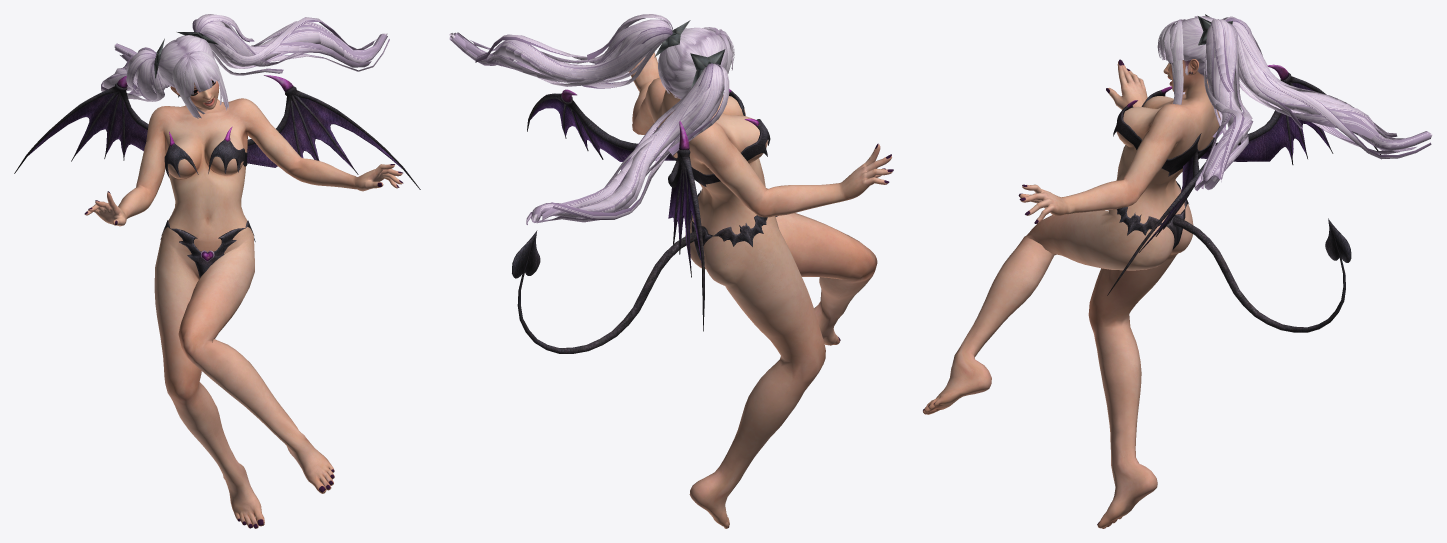
The model's file is amelia.fbx.
3 renders of one model, left to right at view 1: azimuth 30°, elevation 25°; view 2: azimuth 150°, elevation 25°; view 3: azimuth 270°, elevation 25°, orthographic. The views are drawn at different scales.
Parts seen in each view (by area): view 1: Model001_24_body1nPart!_0.9_1_1, Model001_24_body!_0.9_1_1, Model001_24_costume2_0.5_1_1, Model001_25_alpha11_0.3_1_1, Model001_25_alpha10_0.3_1_1, Model001_25_alpha2_0.3_1_1, Model001_25_alpha4_0.3_1_1, Model001_25_alpha3_0.3_1_1, Model001_24_face_0.9_1_1, Model001_26_ref_0.3_1_1; view 2: Model001_24_body1nPart!_0.9_1_1, Model001_24_body!_0.9_1_1, Model001_24_costume2_0.5_1_1, Model001_25_alpha11_0.3_1_1, Model001_25_alpha10_0.3_1_1, Model001_25_alpha2_0.3_1_1, Model001_24_met_0.6_1_1; view 3: Model001_24_body1nPart!_0.9_1_1, Model001_24_body!_0.9_1_1, Model001_24_costume2_0.5_1_1, Model001_25_alpha10_0.3_1_1, Model001_25_alpha11_0.3_1_1, Model001_25_alpha2_0.3_1_1, Model001_25_alpha4_0.3_1_1, Model001_25_alpha3_0.3_1_1, Model001_24_face_0.9_1_1.
Boxes of the visible parts, x1=… form: Model001_24_body1nPart!_0.9_1_1: x1=85, y1=98, x2=334, y2=493; Model001_24_body!_0.9_1_1: x1=95, y1=158, x2=402, y2=528; Model001_24_costume2_0.5_1_1: x1=14, y1=83, x2=420, y2=277; Model001_25_alpha11_0.3_1_1: x1=102, y1=14, x2=389, y2=101; Model001_25_alpha10_0.3_1_1: x1=101, y1=14, x2=387, y2=101; Model001_25_alpha2_0.3_1_1: x1=158, y1=35, x2=216, y2=88; Model001_25_alpha4_0.3_1_1: x1=172, y1=51, x2=228, y2=115; Model001_25_alpha3_0.3_1_1: x1=173, y1=51, x2=227, y2=118; Model001_24_face_0.9_1_1: x1=170, y1=79, x2=219, y2=109; Model001_26_ref_0.3_1_1: x1=117, y1=75, x2=293, y2=261; Model001_24_body1nPart!_0.9_1_1: x1=632, y1=77, x2=892, y2=345; Model001_24_body!_0.9_1_1: x1=628, y1=52, x2=891, y2=528; Model001_24_costume2_0.5_1_1: x1=512, y1=91, x2=777, y2=353; Model001_25_alpha11_0.3_1_1: x1=449, y1=19, x2=729, y2=224; Model001_25_alpha10_0.3_1_1: x1=449, y1=14, x2=724, y2=223; Model001_25_alpha2_0.3_1_1: x1=658, y1=27, x2=734, y2=99; Model001_24_met_0.6_1_1: x1=654, y1=20, x2=725, y2=87; Model001_24_body1nPart!_0.9_1_1: x1=923, y1=71, x2=1220, y2=414; Model001_24_body!_0.9_1_1: x1=1019, y1=61, x2=1157, y2=528; Model001_24_costume2_0.5_1_1: x1=1107, y1=71, x2=1380, y2=332; Model001_25_alpha10_0.3_1_1: x1=1194, y1=16, x2=1432, y2=188; Model001_25_alpha11_0.3_1_1: x1=1194, y1=18, x2=1431, y2=190; Model001_25_alpha2_0.3_1_1: x1=1162, y1=16, x2=1215, y2=78; Model001_25_alpha4_0.3_1_1: x1=1157, y1=19, x2=1185, y2=104; Model001_25_alpha3_0.3_1_1: x1=1158, y1=19, x2=1183, y2=93; Model001_24_face_0.9_1_1: x1=1163, y1=59, x2=1209, y2=93.
Bounding box in the file's own units: 122 × 162 × 147.
21 materials, 21 textured.
